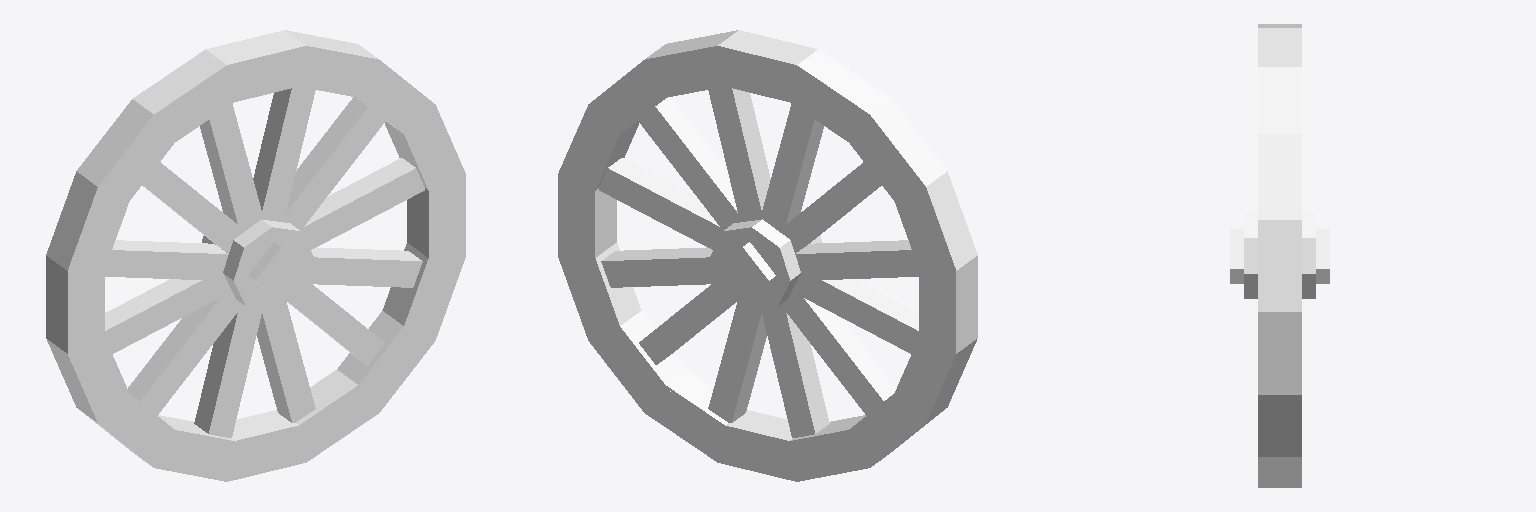
Rendered from mt_wheel_s.obj.
The picture shows the model from 3 angles: view 1: azimuth 30°, elevation 25°; view 2: azimuth 150°, elevation 25°; view 3: azimuth 270°, elevation 25°; orthographic projection.
Parts seen in each view (by area): view 1: cube.003, cube.000, cube.004, cube.001, cube, cube.002, hexadecagon.004, hexadecagon.002, hexadecagon.003, hexadecagon.005, hexadecagon.010, hexadecagon.012 (+15 smaller); view 2: cube.003, cube.000, cube.004, cube.001, cube, cube.002, hexadecagon.003, hexadecagon.005, hexadecagon.004, hexadecagon.009, hexadecagon.002, hexadecagon.011 (+15 smaller); view 3: hexadecagon.014, hexadecagon.007, hexadecagon.013, hexadecagon.008, hexadecagon.012, hexadecagon.009, cube.005, hexadecagon.011, octagon.002, octagon, octagon.000.
Part boxes in pixels (x1,y1,x2,y2): cube.003: (128,97,385,415); cube.000: (194,87,315,437); cube.004: (105,158,424,353); cube.001: (200,104,315,422); cube: (105,240,422,287); cube.002: (142,162,384,364); hexadecagon.004: (46,171,131,276); hexadecagon.002: (133,49,240,146); hexadecagon.003: (77,99,173,199); hexadecagon.005: (46,256,104,353); hexadecagon.010: (292,370,378,462); hexadecagon.012: (382,243,465,340); cube.003: (638,97,895,415); cube.000: (708,87,829,437); cube.004: (599,158,918,353); cube.001: (708,104,823,422); cube: (601,240,918,287); cube.002: (639,162,881,364); hexadecagon.003: (844,99,946,207); hexadecagon.005: (919,256,977,353); hexadecagon.004: (895,171,977,270); hexadecagon.009: (718,30,817,103); hexadecagon.002: (791,49,890,141); hexadecagon.011: (589,311,686,412); hexadecagon.014: (1258,220,1301,311); hexadecagon.007: (1258,134,1301,219); hexadecagon.013: (1258,312,1301,394); hexadecagon.008: (1258,67,1301,133); hexadecagon.012: (1258,395,1301,456); hexadecagon.009: (1258,28,1301,66); cube.005: (1230,229,1329,283); hexadecagon.011: (1258,457,1301,487); octagon.002: (1244,238,1315,273); octagon: (1244,213,1315,237); octagon.000: (1244,274,1315,298).
Size of the model in its own units: 1 by 1 by 0.2188.